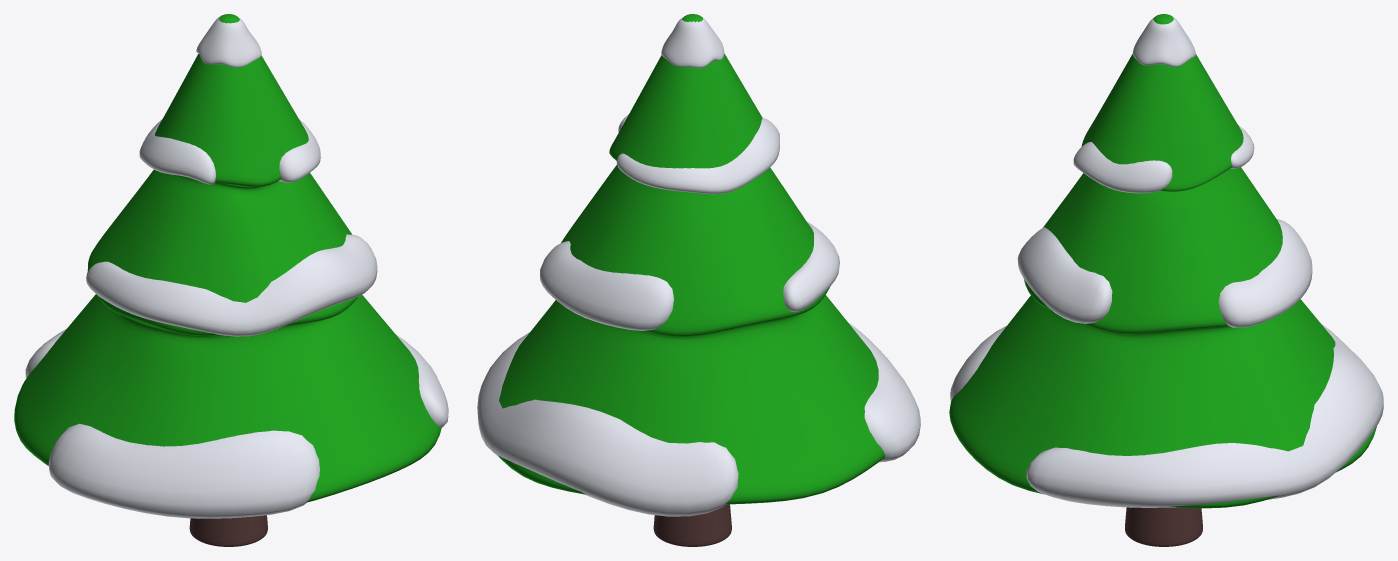
File: christmas-trees.glb
3 views of the same model, side by side, from view 1: azimuth 30°, elevation 25°; view 2: azimuth 150°, elevation 25°; view 3: azimuth 270°, elevation 25° (orthographic).
Visible parts, largest first — view 1: Arbol_0; view 2: Arbol_0; view 3: Arbol_0.
Boxes of the visible parts, bbox=[...] form: Arbol_0: bbox=[14, 14, 448, 546]; Arbol_0: bbox=[477, 14, 920, 546]; Arbol_0: bbox=[949, 14, 1383, 546].
Bounding box in the file's own units: 0.7778 × 1 × 0.7635.
